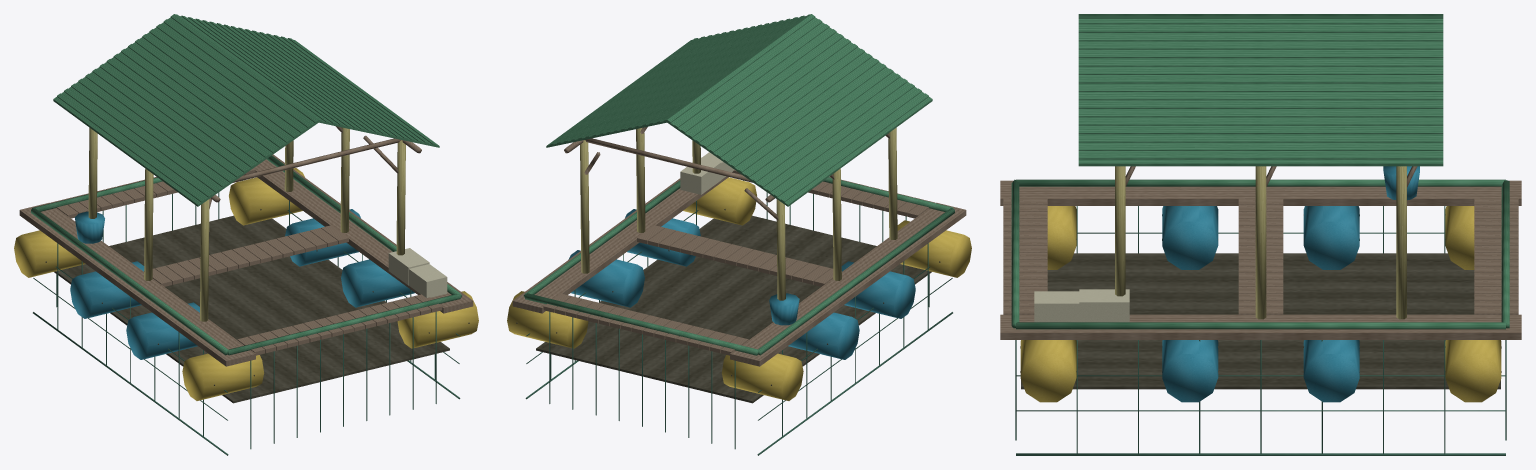
Rendered from bung-raft-0-green.glb.
3 views of the same model, side by side, from view 1: azimuth 30°, elevation 25°; view 2: azimuth 150°, elevation 25°; view 3: azimuth 270°, elevation 25° (orthographic). The views are drawn at different scales.
Parts seen in each view (by area): view 1: bung-raft-0-green; view 2: bung-raft-0-green; view 3: bung-raft-0-green.
Boxes of the visible parts, box(x1,y1,x2,y2) form: bung-raft-0-green: box(14, 14, 478, 455); bung-raft-0-green: box(507, 14, 971, 455); bung-raft-0-green: box(1000, 14, 1521, 455).
Bounding box in the file's own units: 4.14 × 4.18 × 5.4.
Materials: 1 (1 with a texture image).
